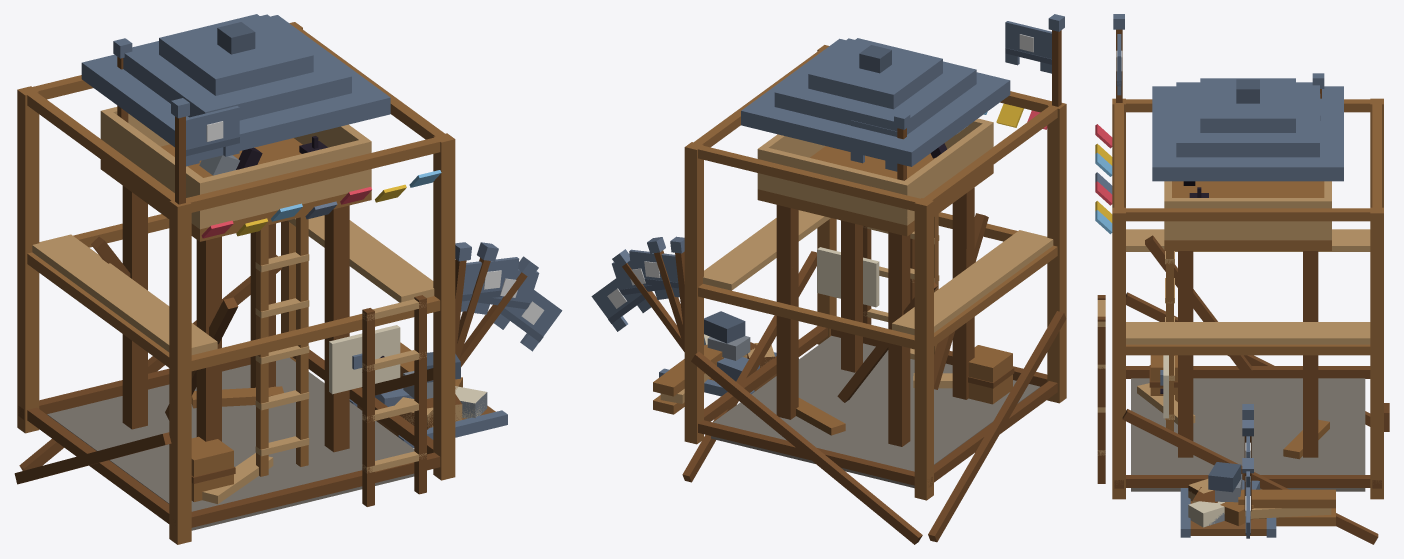
File: raccoon-research.glb
3 renders of one model, left to right at view 1: azimuth 30°, elevation 25°; view 2: azimuth 150°, elevation 25°; view 3: azimuth 270°, elevation 25°, orthographic. The views are drawn at different scales.
Visible parts, largest first — view 1: scaffold-mesh, built-mesh, dismantle-75-mesh, dismantle-50-mesh, dismantle-25-mesh, scaffold-banner, dismantle-25-banner, dismantle-75-banner, dismantle-50-banner, dismantle-25-flag-pole, scaffold-flag-pole, dismantle-50-flag-pole (+1 smaller); view 2: scaffold-mesh, built-mesh, dismantle-25-mesh, dismantle-75-mesh, dismantle-50-mesh, scaffold-banner, dismantle-25-banner, dismantle-75-banner, dismantle-50-banner, dismantle-25-flag-pole, scaffold-flag-pole, dismantle-50-flag-pole (+1 smaller); view 3: built-mesh, scaffold-mesh, dismantle-25-mesh, dismantle-50-mesh, dismantle-75-mesh, scaffold-flag-pole, scaffold-banner.
Boxes of the visible parts, left/top/right/bottom form: scaffold-mesh: left=14, top=22, right=455, bottom=544; built-mesh: left=47, top=14, right=414, bottom=511; dismantle-75-mesh: left=132, top=137, right=507, bottom=529; dismantle-50-mesh: left=132, top=269, right=507, bottom=530; dismantle-25-mesh: left=191, top=352, right=486, bottom=529; scaffold-banner: left=186, top=106, right=239, bottom=166; dismantle-25-banner: left=494, top=290, right=562, bottom=351; dismantle-75-banner: left=461, top=257, right=519, bottom=311; dismantle-50-banner: left=474, top=266, right=539, bottom=319; dismantle-25-flag-pole: left=459, top=256, right=538, bottom=366; scaffold-flag-pole: left=171, top=98, right=189, bottom=204; dismantle-50-flag-pole: left=455, top=242, right=498, bottom=358; scaffold-mesh: left=653, top=45, right=1066, bottom=544; built-mesh: left=713, top=38, right=1039, bottom=471; dismantle-25-mesh: left=704, top=311, right=992, bottom=435; dismantle-75-mesh: left=659, top=199, right=992, bottom=402; dismantle-50-mesh: left=659, top=273, right=1013, bottom=404; scaffold-banner: left=1005, top=21, right=1051, bottom=73; dismantle-25-banner: left=591, top=278, right=651, bottom=331; dismantle-75-banner: left=629, top=249, right=679, bottom=297; dismantle-50-banner: left=612, top=258, right=668, bottom=304; dismantle-25-flag-pole: left=612, top=249, right=684, bottom=351; scaffold-flag-pole: left=1048, top=14, right=1064, bottom=106; dismantle-50-flag-pole: left=647, top=237, right=684, bottom=347; built-mesh: left=1131, top=78, right=1365, bottom=474; scaffold-mesh: left=1095, top=98, right=1389, bottom=544; dismantle-25-mesh: left=1137, top=382, right=1329, bottom=534; dismantle-50-mesh: left=1134, top=293, right=1363, bottom=535; dismantle-75-mesh: left=1131, top=232, right=1365, bottom=537; scaffold-flag-pole: left=1113, top=14, right=1124, bottom=102; scaffold-banner: left=1116, top=34, right=1122, bottom=95.
Bounding box in the file's own units: 2.35 × 2.34 × 1.51.
